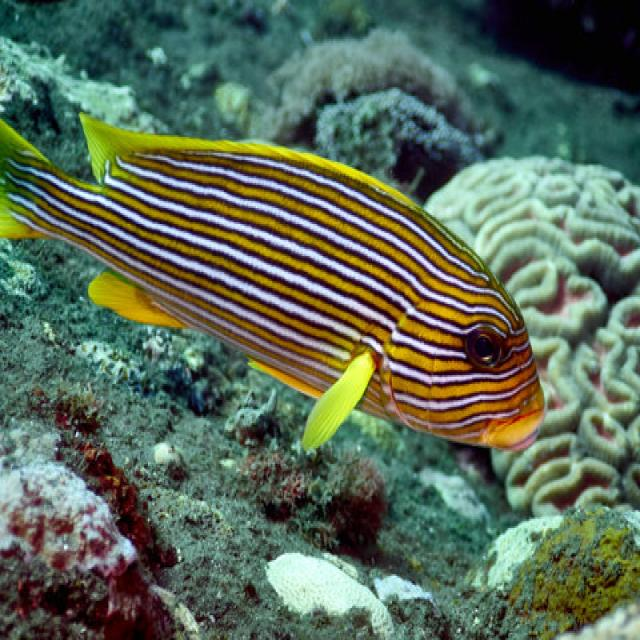RibbonedSweetlips: (0, 85, 548, 457)
